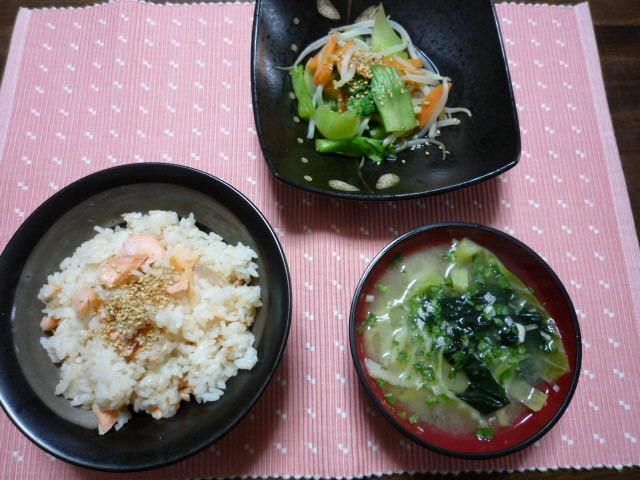rice: (38, 211, 261, 433)
